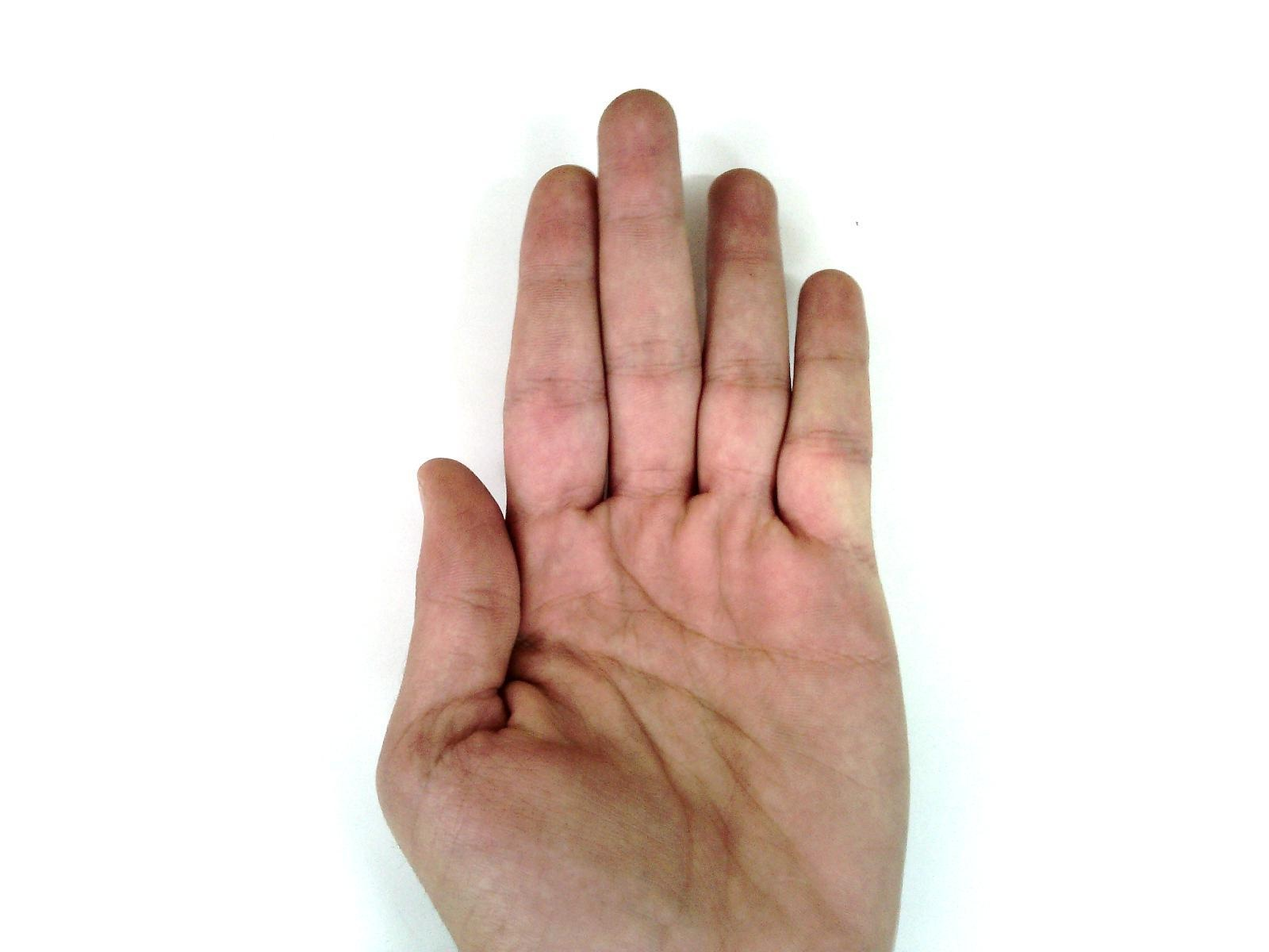open_palm: (373, 88, 916, 951)
